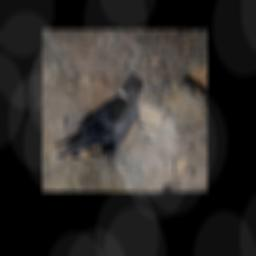Crow: (54, 72, 147, 174)
